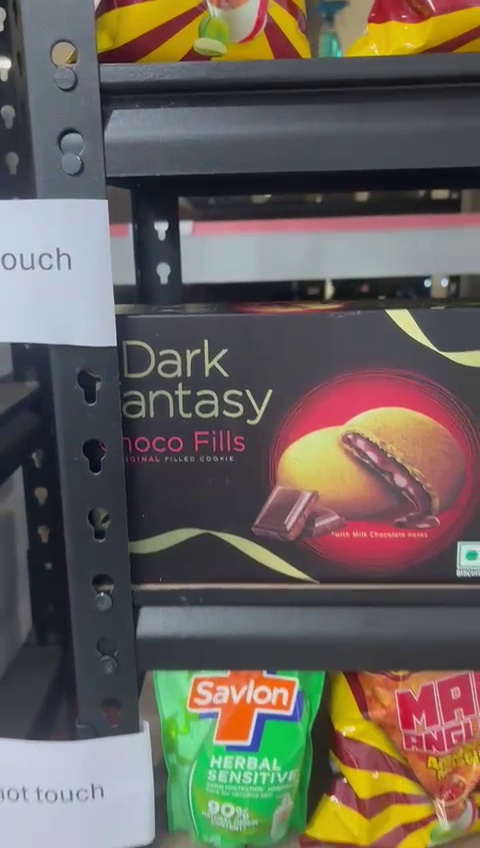Dark Fantasy: (120, 305, 480, 585)
